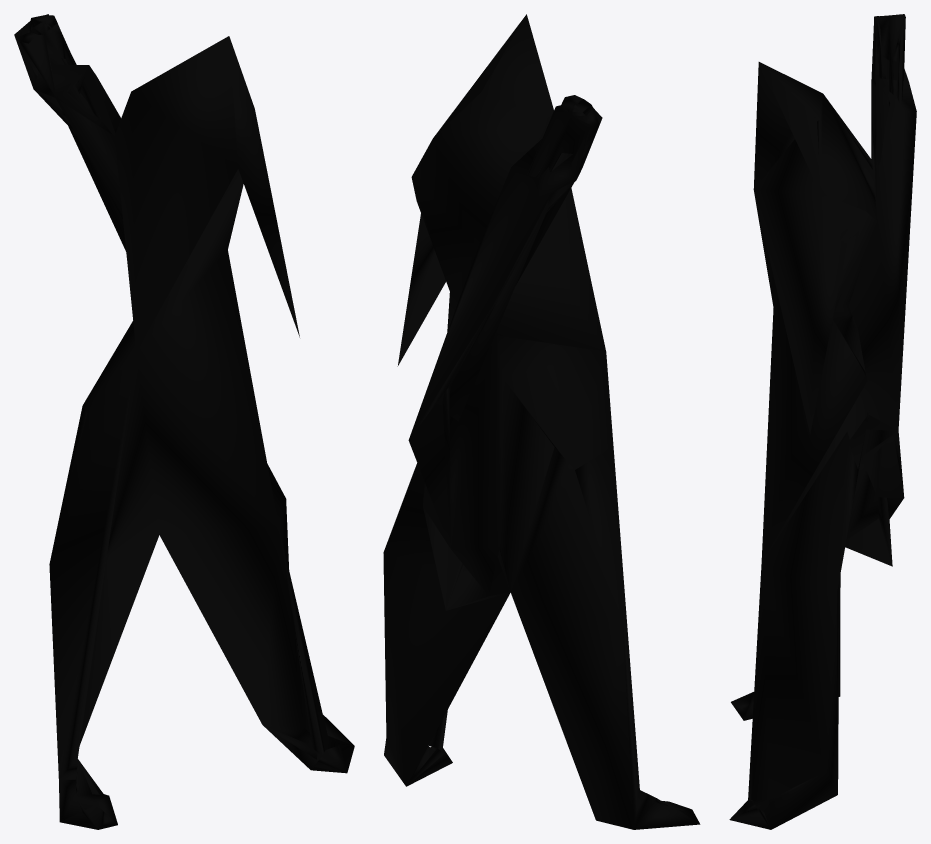
Rendered from archer_chola_lod.glb.
3 views of the same model, side by side, from view 1: azimuth 30°, elevation 25°; view 2: azimuth 150°, elevation 25°; view 3: azimuth 270°, elevation 25° (orthographic). The views are drawn at different scales.
Parts seen in each view (by area): view 1: titus; view 2: titus; view 3: titus.
Part boxes in pixels (left/top/right/bottom): titus: left=14, top=14, right=354, bottom=829; titus: left=383, top=14, right=700, bottom=829; titus: left=729, top=14, right=916, bottom=829.
Size of the model in its own units: 0.7268 by 1.74 by 0.4143.
2 materials, 2 textured.
